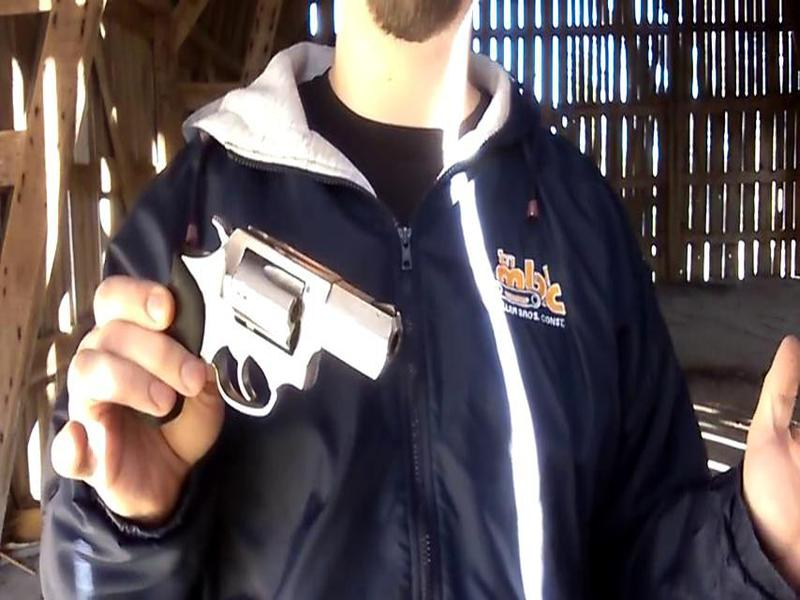Revolver: (157, 196, 407, 421)
